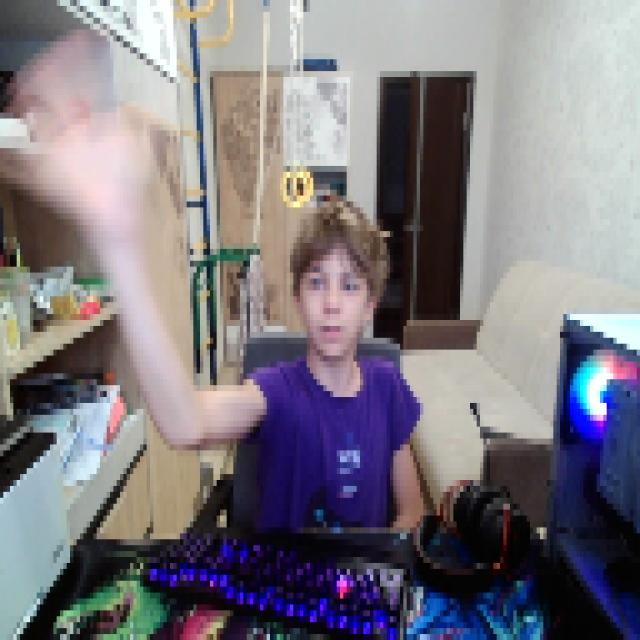hand: (0, 18, 147, 225)
